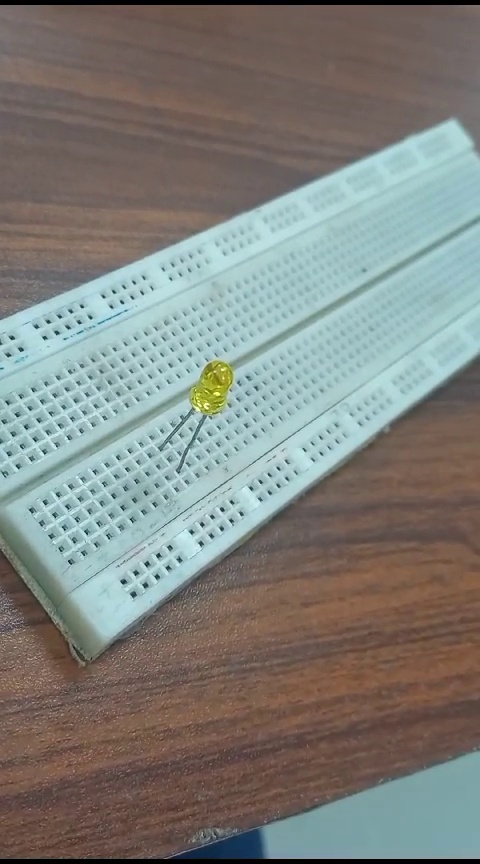LED: (158, 353, 227, 475)
